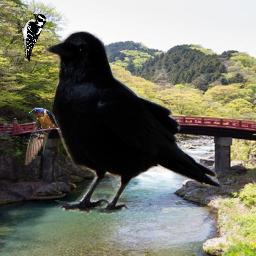Crow: (41, 29, 226, 215)
Swallow: (24, 107, 61, 165)
Woodpecker: (17, 14, 46, 63)
